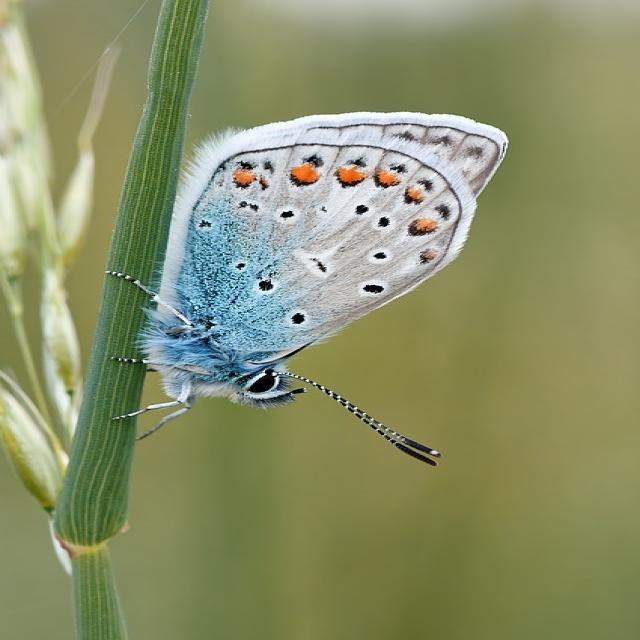butterfly: (143, 112, 506, 407)
